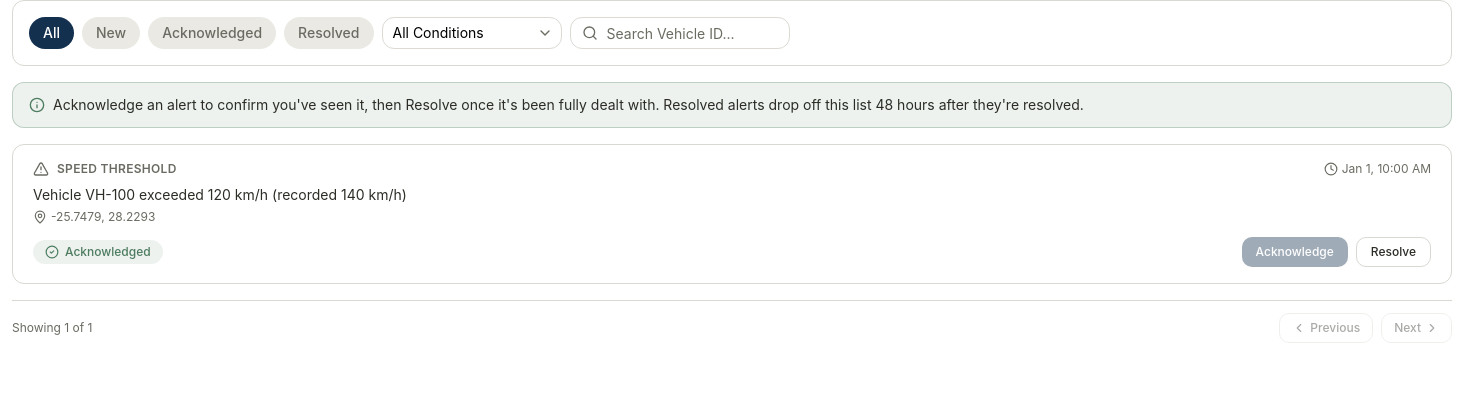
it: TriggeredAlertsTab › falls back to err.message if resolving fails with no response payload
Click the button "Resolve" at (1393, 252), box [1356,237,1431,267]
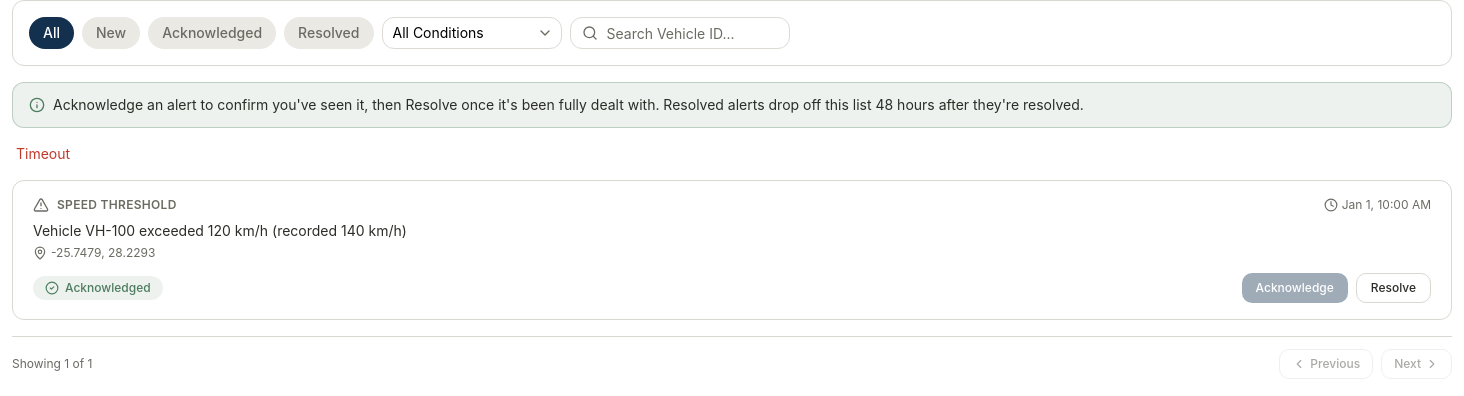
Expected: the text "Timeout" is shown, [16,145,70,162]
